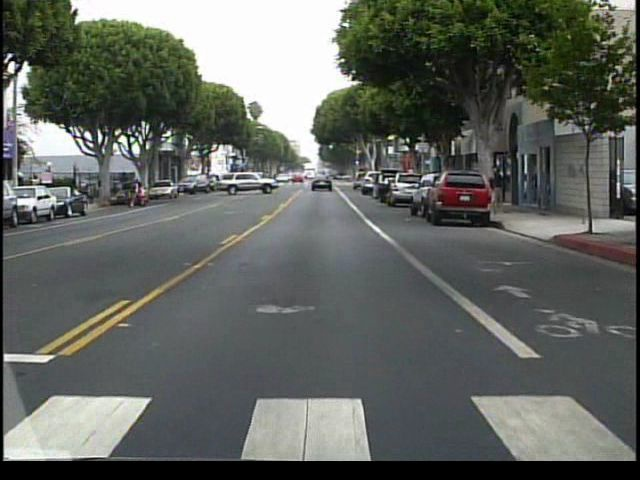person: (488, 166, 509, 216), (131, 178, 149, 210)
